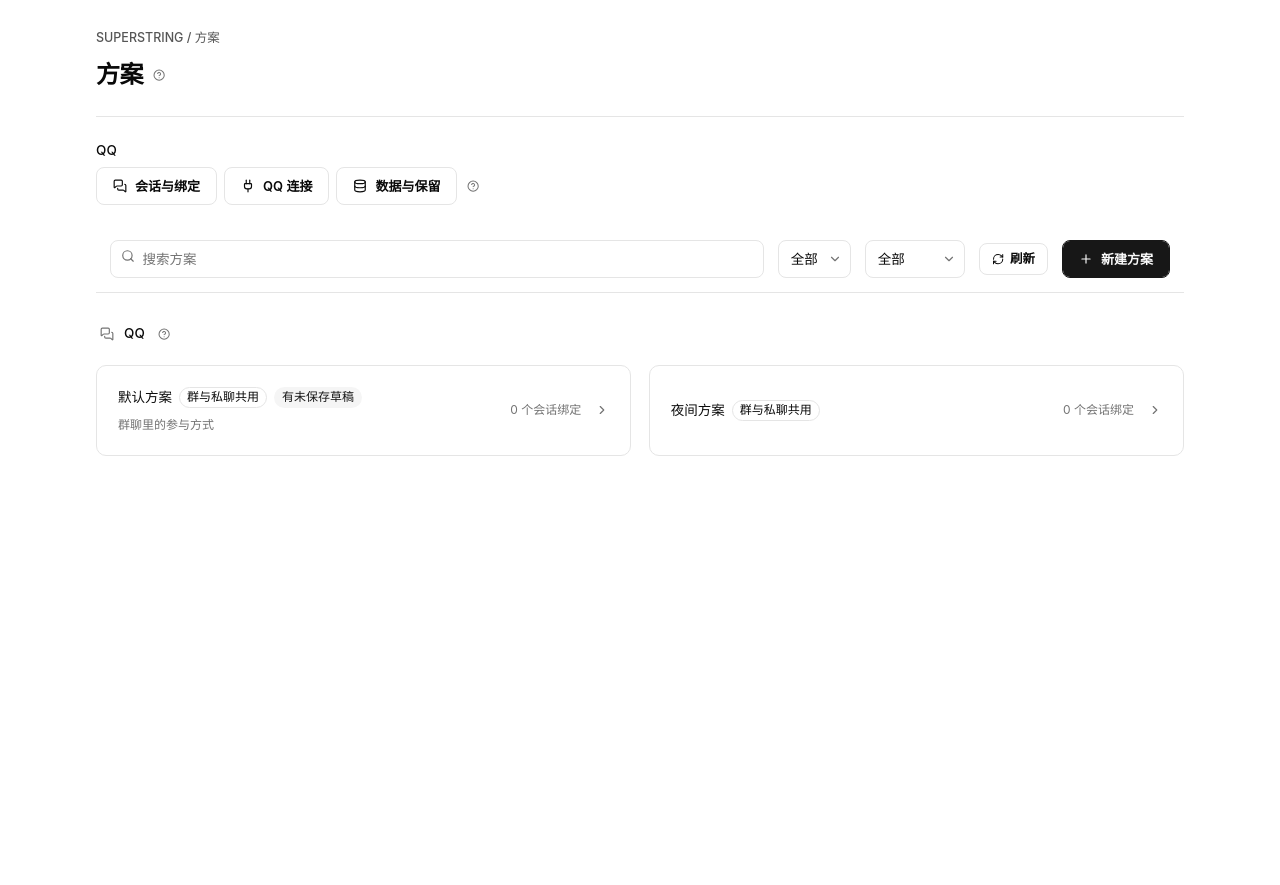
有未保存草稿时新建先三选：保存成功后继续创建
Click the button "新建方案". click: point(1116, 259)
box: [1062,240,1170,278]
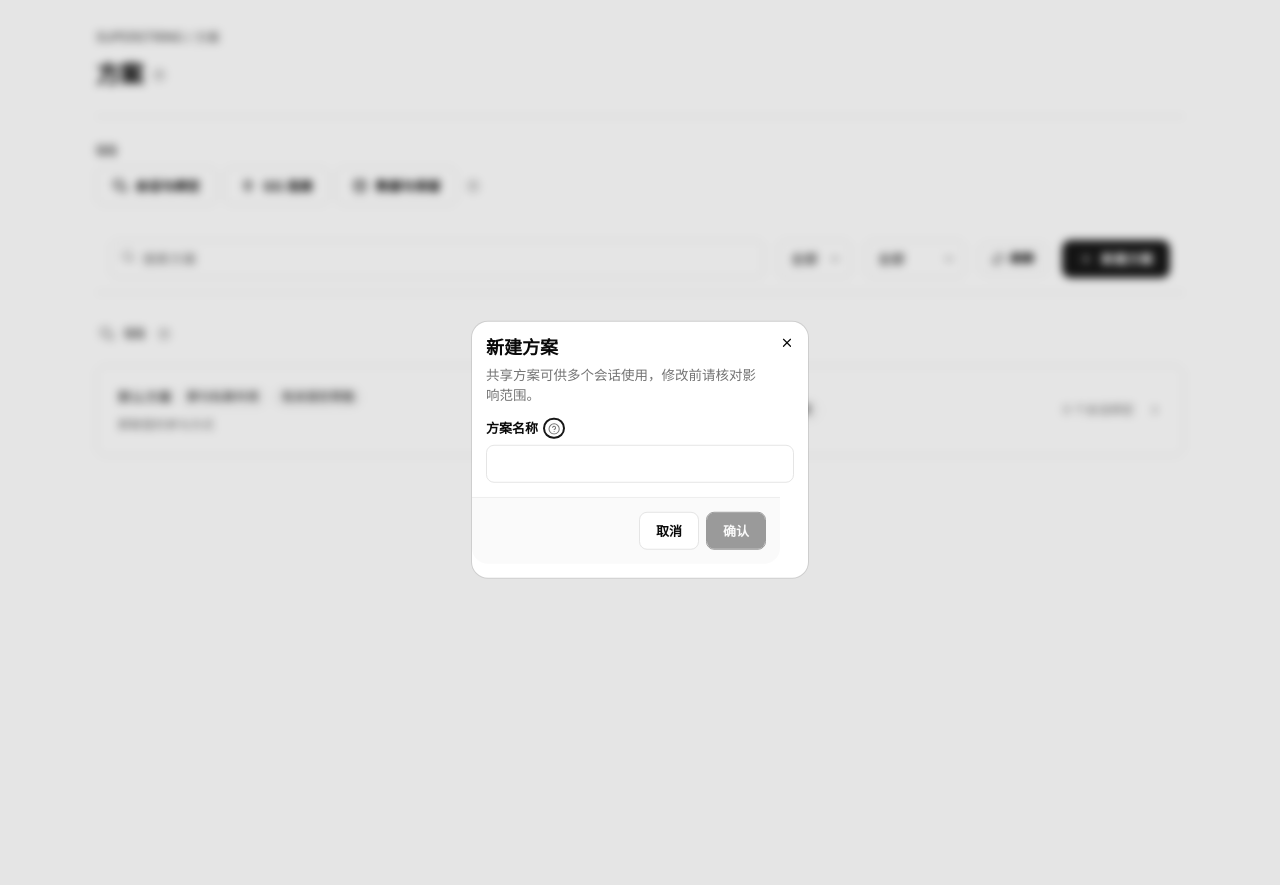
Type "群聊方案" into the field labelled "方案名称". click: point(640, 464)
box: [486,445,794,483]
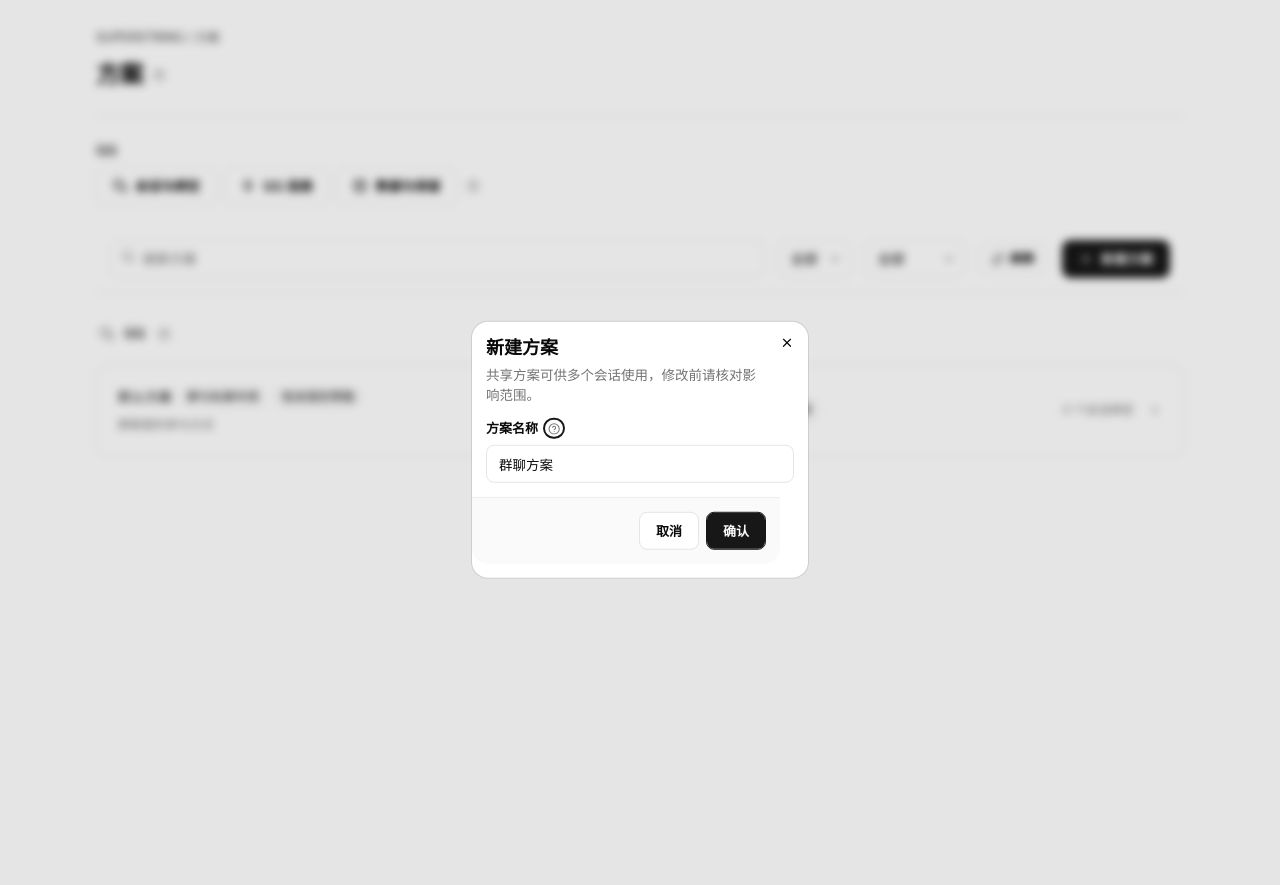
Click the button "确认". click: point(736, 531)
box: [706,512,766,550]
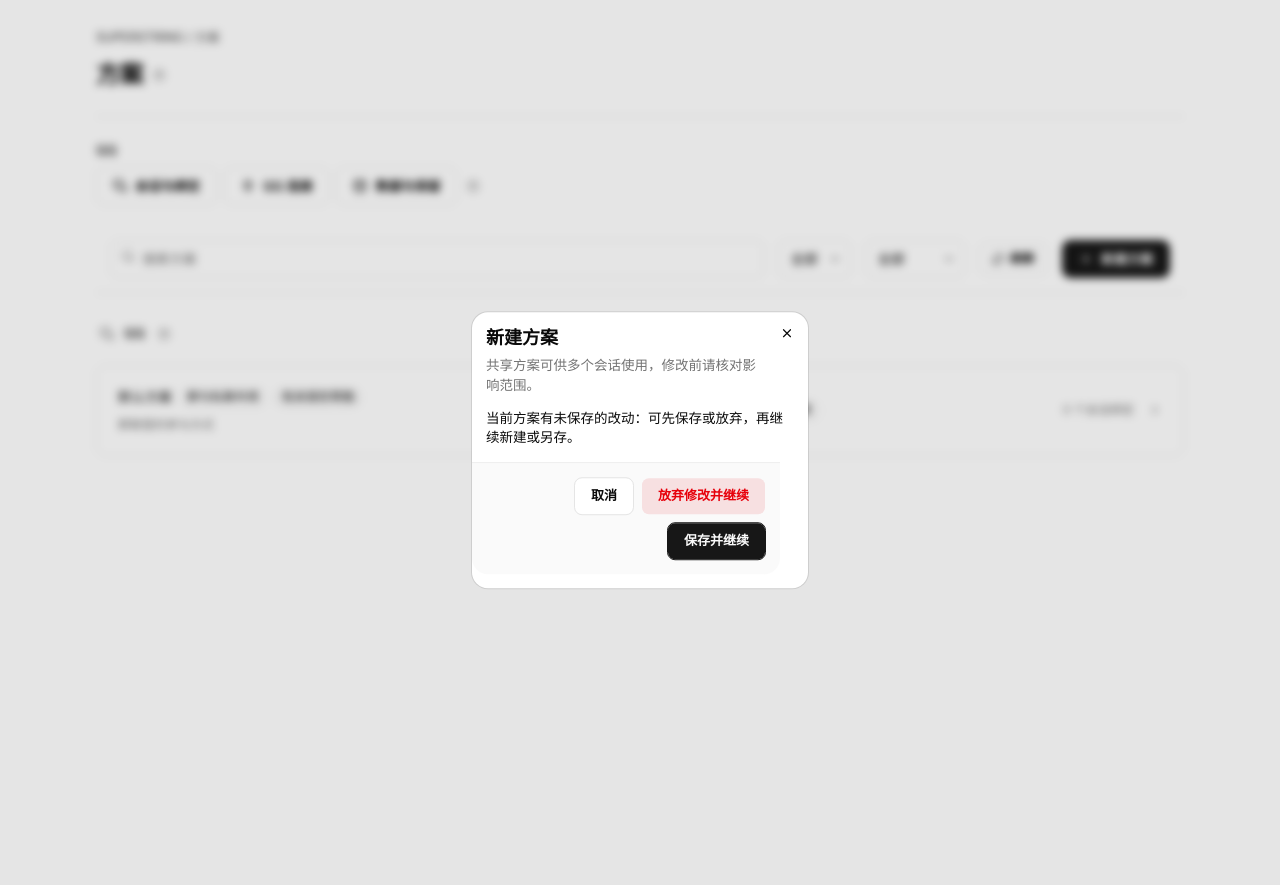
Expected: the button "保存并继续" is shown
Expected: the button "放弃修改并继续" is shown, [641,477,766,515]
Click the button "保存并继续". click: point(716, 541)
box: [667,522,766,560]
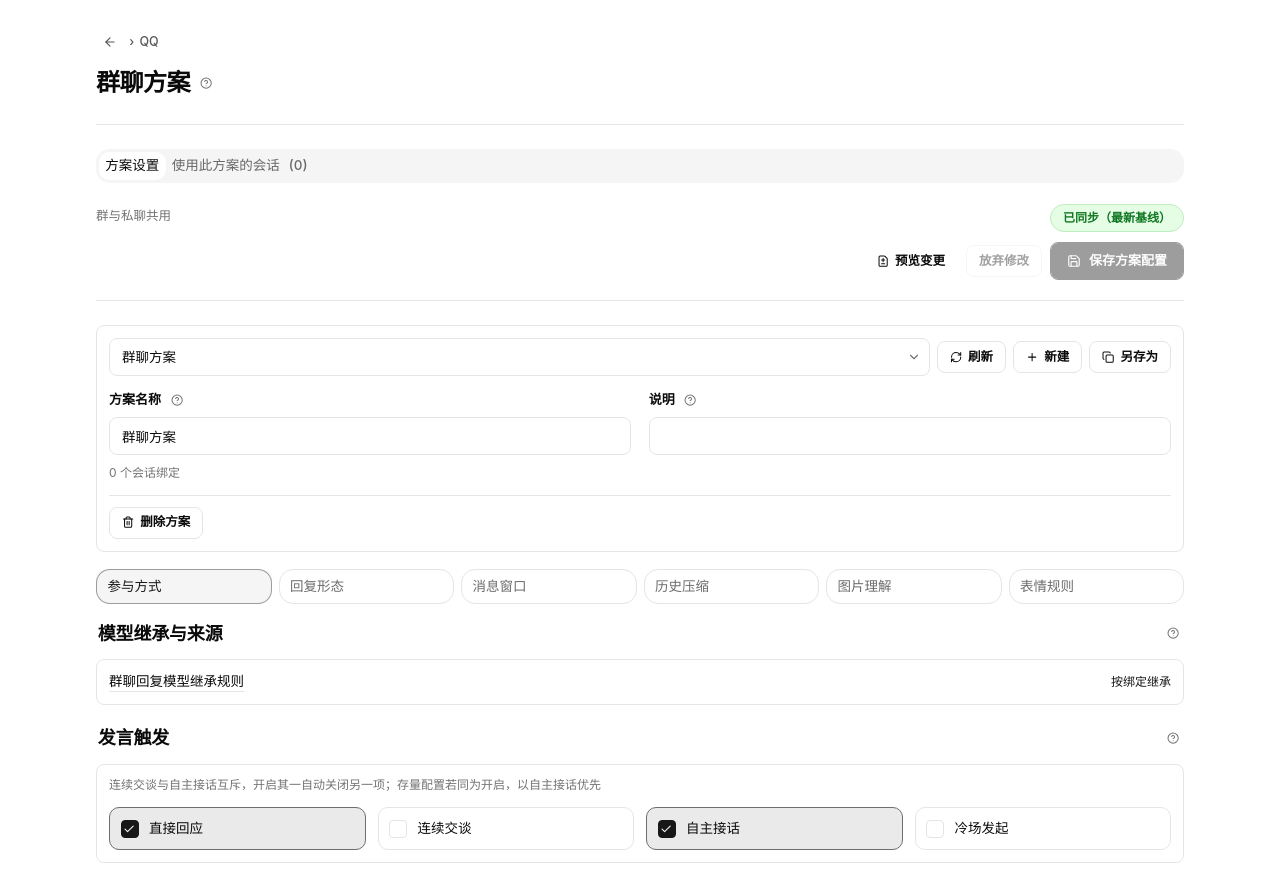
Expected: the dialog is gone
